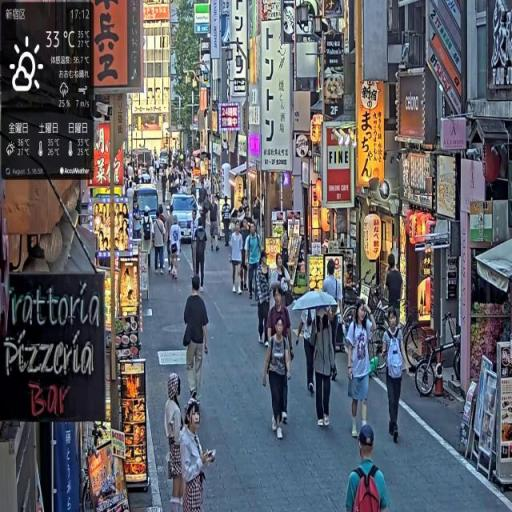person: (180, 399, 218, 512), (347, 300, 375, 441), (381, 305, 409, 446), (346, 426, 391, 511), (263, 319, 294, 440), (184, 274, 211, 409), (313, 307, 340, 432), (165, 372, 188, 510), (254, 250, 274, 348), (297, 309, 319, 393), (245, 221, 262, 303), (385, 255, 404, 327), (193, 211, 210, 290), (152, 208, 169, 275), (231, 223, 245, 295), (168, 214, 183, 281), (210, 199, 222, 253)
